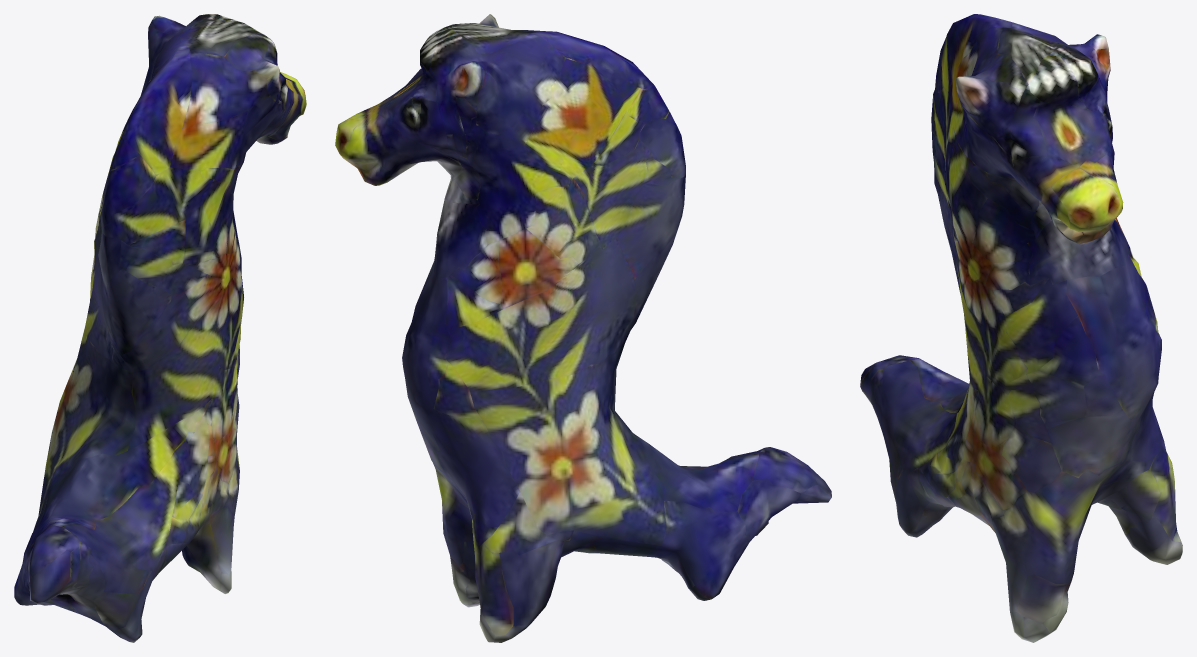
The model's file is hall.glb.
3 views of the same model, side by side, from view 1: azimuth 30°, elevation 25°; view 2: azimuth 150°, elevation 25°; view 3: azimuth 270°, elevation 25° (orthographic). The views are drawn at different scales.
Size of the model in its own units: 0.6627 by 0.9524 by 0.4698.
Materials: 1 (1 with a texture image).
